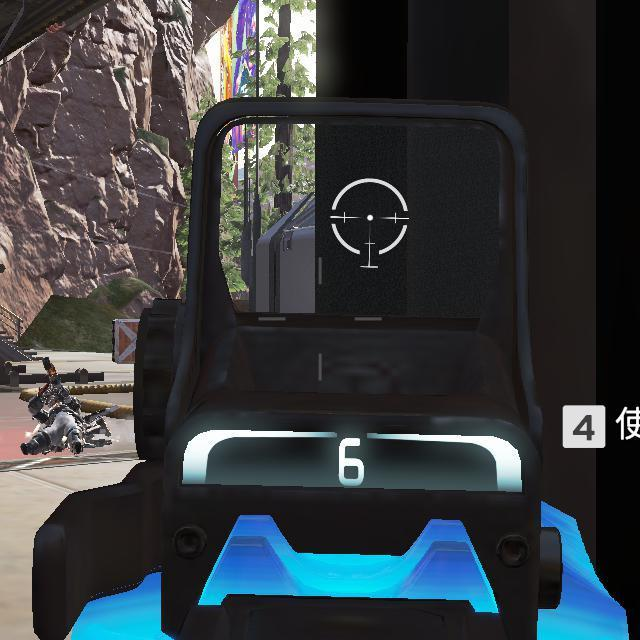avatar: (19, 379, 86, 458)
